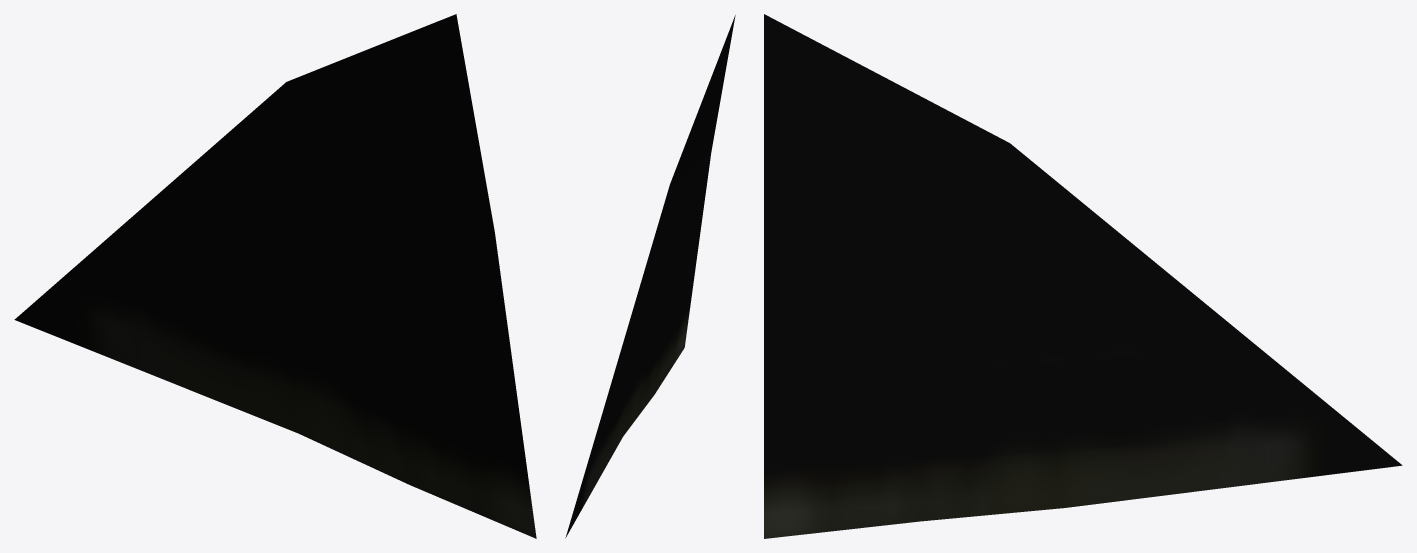
3 views of the same model, side by side, from view 1: azimuth 30°, elevation 25°; view 2: azimuth 150°, elevation 25°; view 3: azimuth 270°, elevation 25° (orthographic). The views are drawn at different scales.
Size of the model in its own units: 1.01 by 3.14 by 3.71.
1 material, 1 textured.
